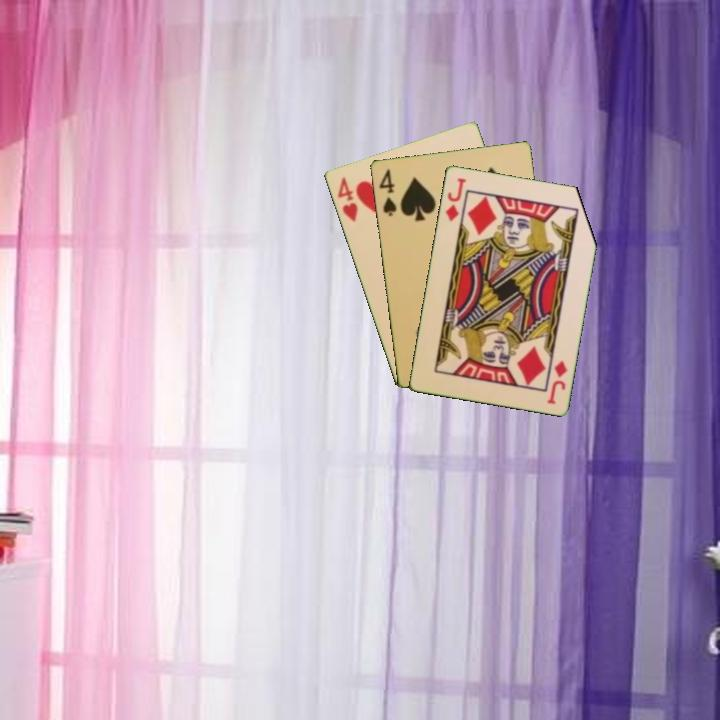4h: (334, 173, 360, 224)
4s: (375, 165, 399, 219)
Jd: (441, 174, 469, 224), (543, 357, 570, 407)
